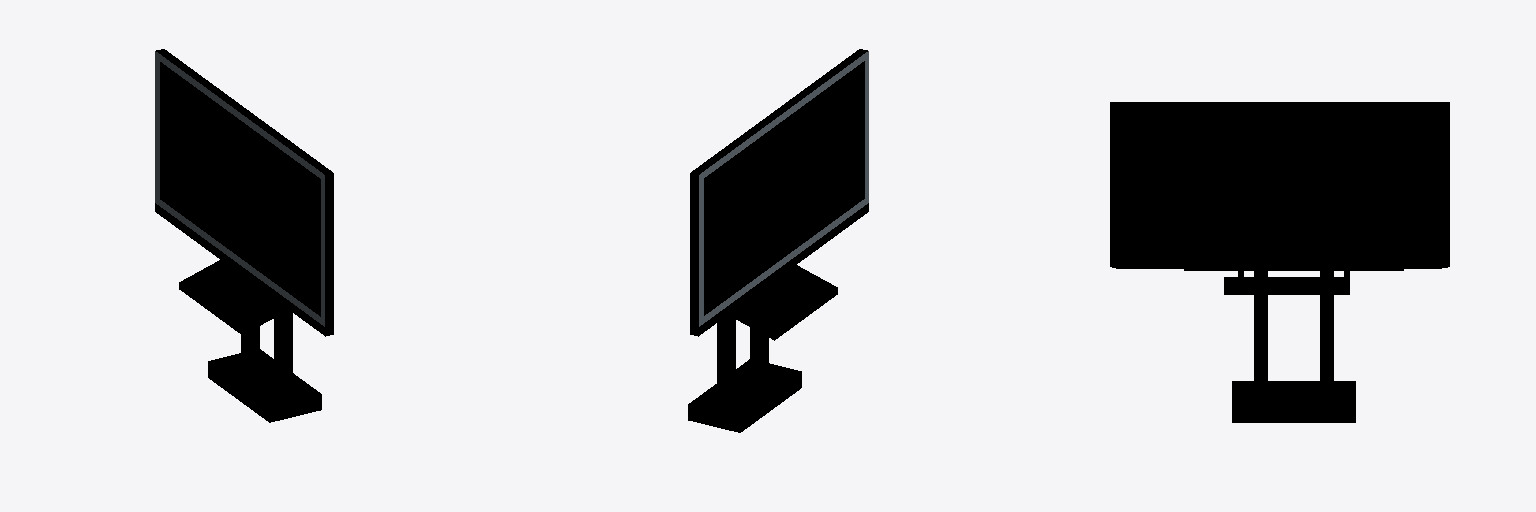
Rendered from ProWise_Screen (1).obj.
3 views of the same model, side by side, from view 1: azimuth 30°, elevation 25°; view 2: azimuth 150°, elevation 25°; view 3: azimuth 270°, elevation 25° (orthographic).
Parts seen in each view (by area): view 1: ProWise_Screen (1); view 2: ProWise_Screen (1); view 3: ProWise_Screen (1).
Part boxes in pixels (x1,y1,x2,y2): ProWise_Screen (1): (155,49,333,422); ProWise_Screen (1): (688,49,868,432); ProWise_Screen (1): (1110,102,1449,422).
Bounding box in the file's own units: 0.48 × 1.62 × 1.7.